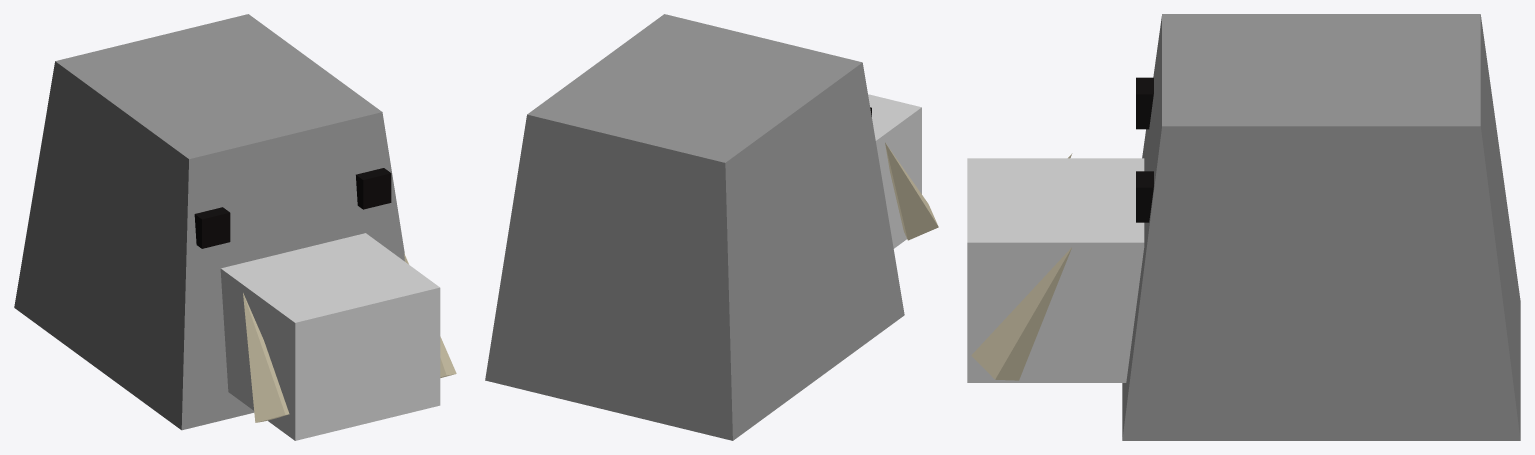
Rendered from head_boar.glb.
The picture shows the model from 3 angles, left to right: view 1: azimuth 30°, elevation 25°; view 2: azimuth 150°, elevation 25°; view 3: azimuth 270°, elevation 25°; orthographic projection. The views are drawn at different scales.
Visible parts, largest first — view 1: head_boar; view 2: head_boar; view 3: head_boar.
Part boxes in pixels (x1,y1,x2,y2): head_boar: (14,14,456,440); head_boar: (485,14,938,440); head_boar: (967,14,1520,440).
Bounding box in the file's own units: 0.3 × 0.3 × 0.5.
